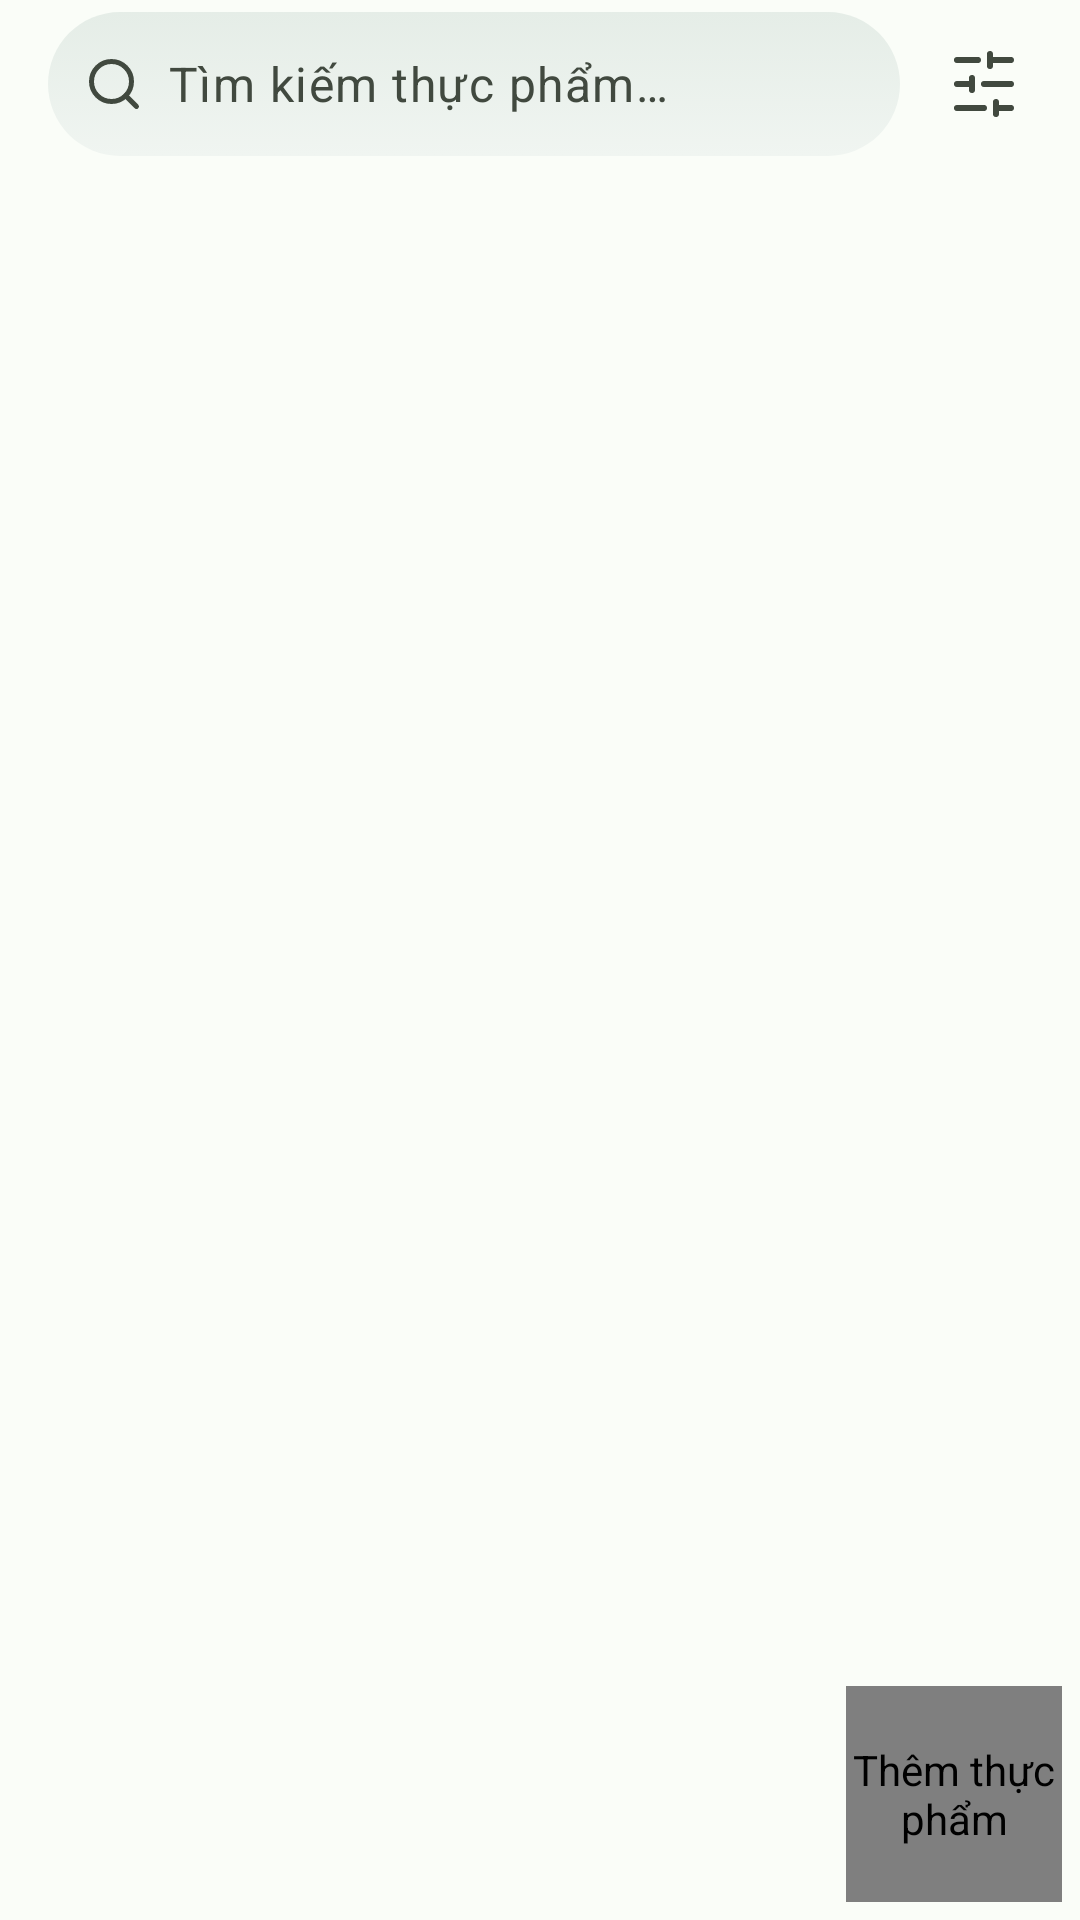

Named icons in this screenshot (1080px×1920px) and their centers, (x,y):
Lọc thực phẩm: (984,84)
search: (114,84)
